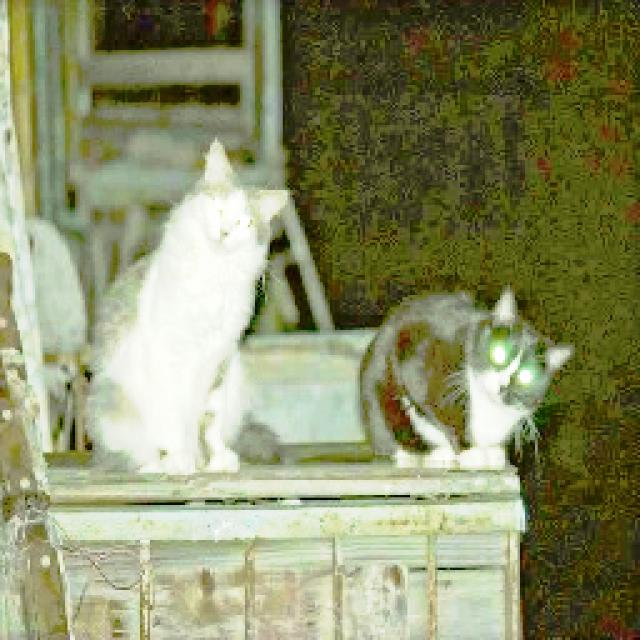cat: (59, 147, 304, 506), (328, 261, 584, 475)
